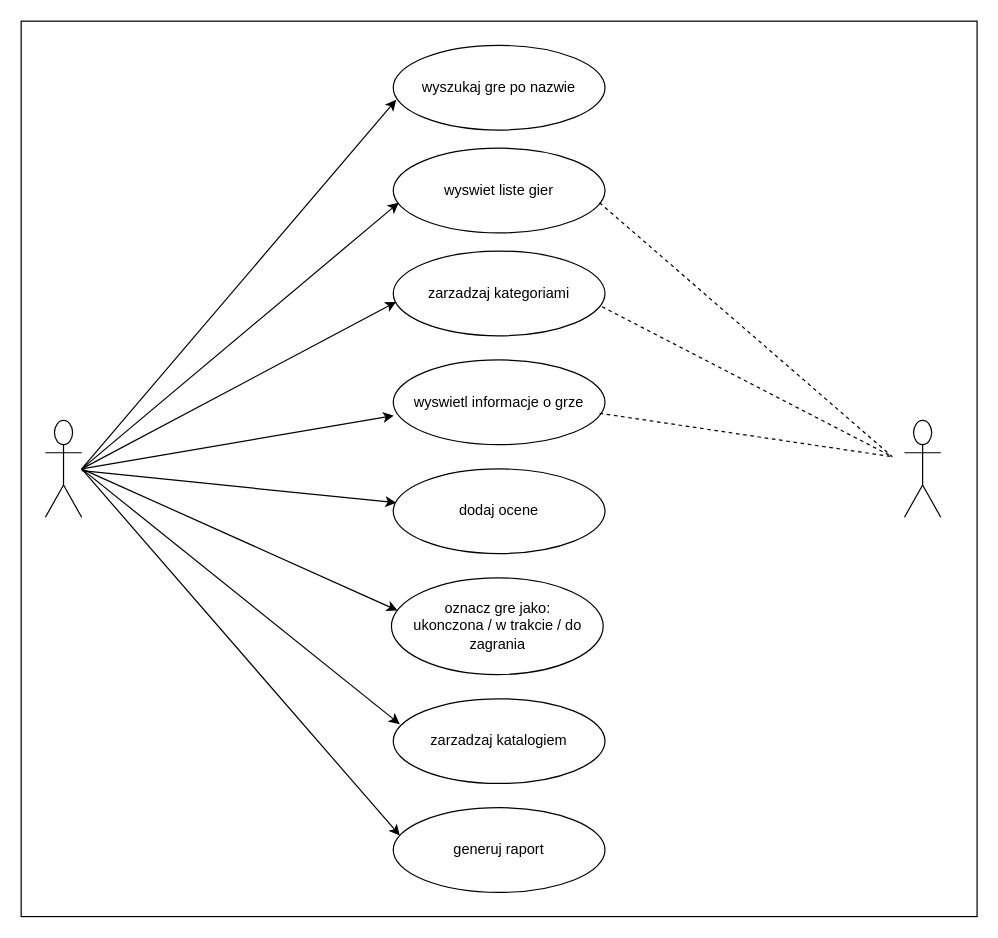
Some shapes in this 998 by 938 pixel diagram are drawn without their labels. Here are the shapes that lost their labels. From the top down, the box of each, then its label:
(44, 419, 82, 517): Uzytkownik
(903, 419, 941, 517): Administartor
